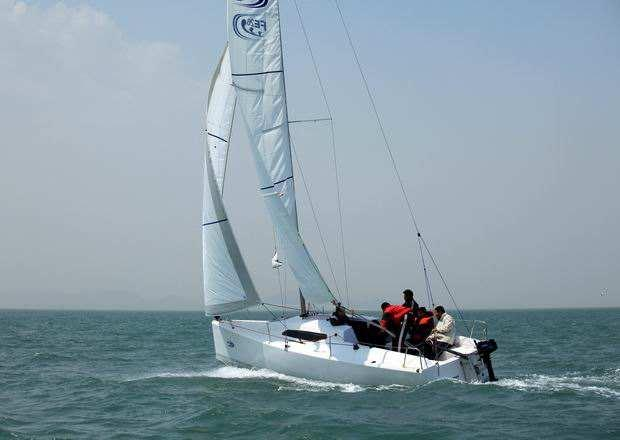fanchuan: (201, 1, 493, 394)
